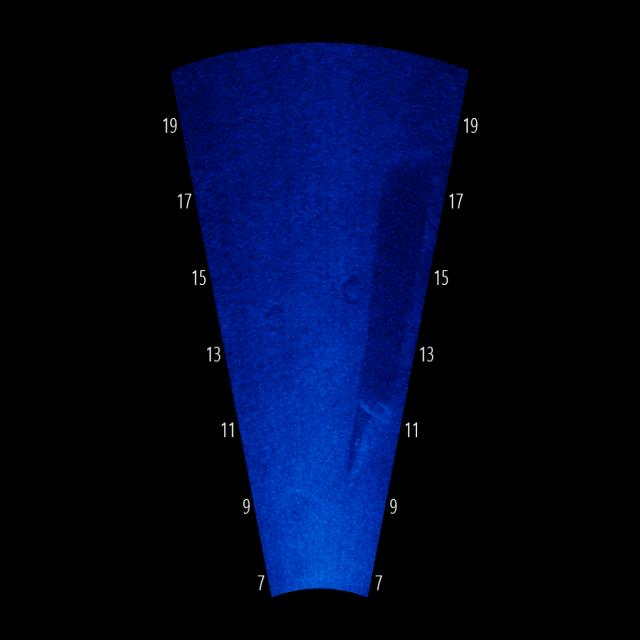triangle: (337, 365, 393, 478)
